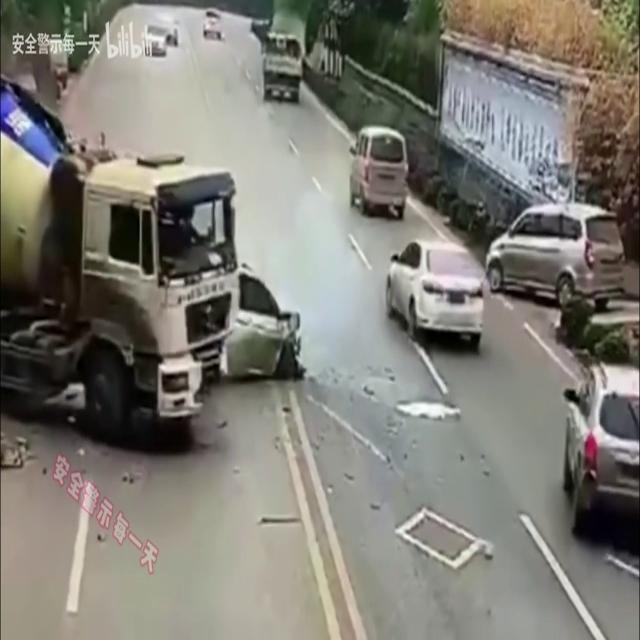accident: (21, 152, 302, 442)
